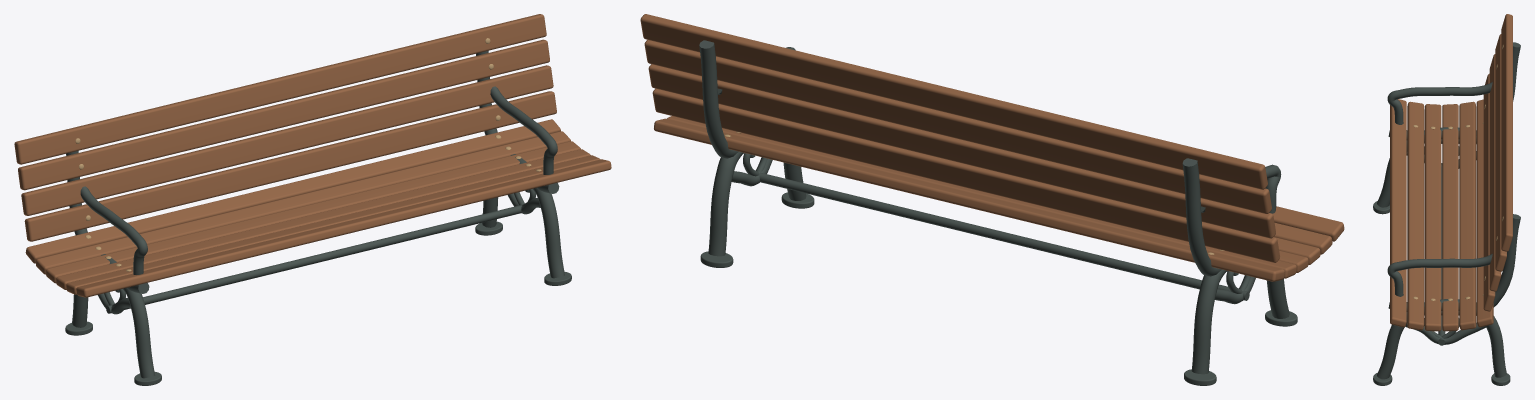
Rendered from HallSettee.fbx.
The picture shows the model from 3 angles, left to right: view 1: azimuth 30°, elevation 25°; view 2: azimuth 150°, elevation 25°; view 3: azimuth 270°, elevation 25°; orthographic projection. The views are drawn at different scales.
Parts seen in each view (by area): view 1: HallSettee; view 2: HallSettee; view 3: HallSettee.
Part boxes in pixels (x1,y1,x2,y2): HallSettee: (14,14,611,385); HallSettee: (640,14,1344,385); HallSettee: (1373,14,1520,385).
Bounding box in the file's own units: 283 × 102 × 79.94.
